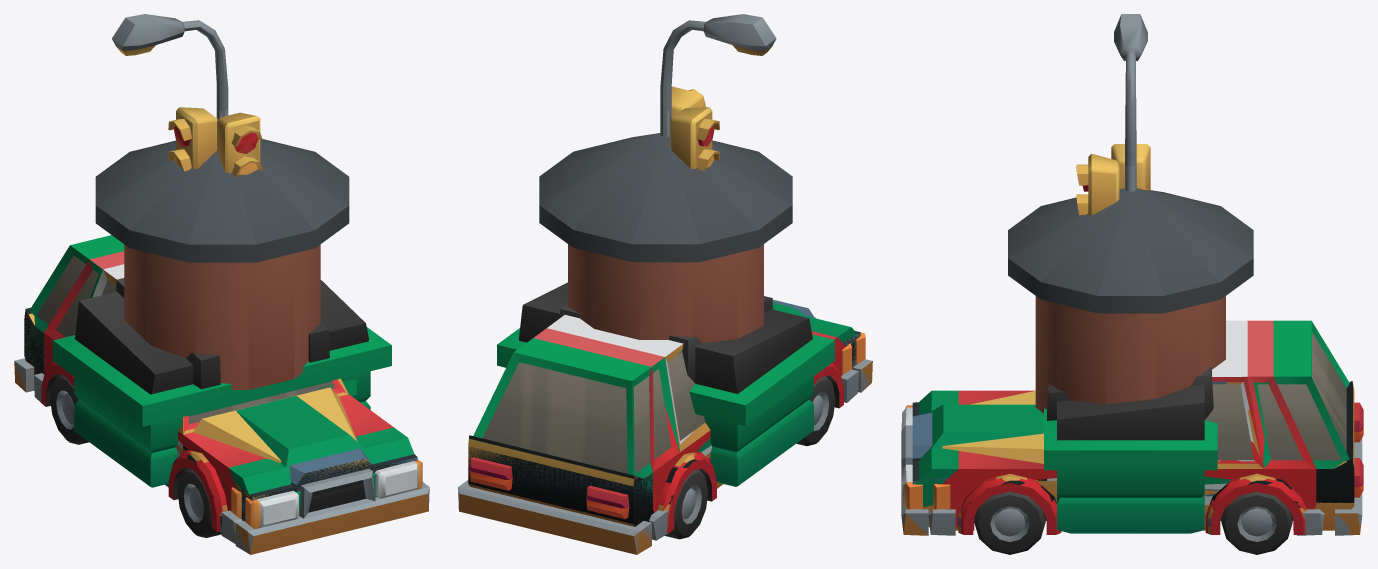
File: kk-city.glb
3 views of the same model, side by side, from view 1: azimuth 30°, elevation 25°; view 2: azimuth 150°, elevation 25°; view 3: azimuth 270°, elevation 25° (orthographic). The views are drawn at different scales.
Visible parts, largest first — view 1: watertower, dumpster, Cube.13728, Cube.1023, Cube.13730, Cube.1022, Cube.13729, trafficlight_A, streetlight, car_hatchback_wheel_front_right, car_hatchback_wheel_rear_right; view 2: watertower, dumpster, Cube.13728, Cube.1022, Cube.1023, Cube.13730, Cube.13729, streetlight, trafficlight_A, car_hatchback_wheel_rear_right, car_hatchback_wheel_front_right; view 3: watertower, dumpster, Cube.13728, Cube.13730, Cube.1022, Cube.1023, trafficlight_A, car_hatchback_wheel_front_left, car_hatchback_wheel_rear_left, streetlight, Cube.13729.
Part boxes in pixels (x1=…): watertower: x1=95, y1=139, x2=349, y2=389; dumpster: x1=53, y1=278, x2=391, y2=487; Cube.13728: x1=24, y1=235, x2=414, y2=515; Cube.1023: x1=14, y1=269, x2=429, y2=554; Cube.13730: x1=34, y1=251, x2=393, y2=543; Cube.1022: x1=14, y1=264, x2=429, y2=553; Cube.13729: x1=14, y1=311, x2=429, y2=554; trafficlight_A: x1=168, y1=107, x2=262, y2=177; streetlight: x1=112, y1=14, x2=228, y2=119; car_hatchback_wheel_front_right: x1=177, y1=468, x2=221, y2=537; car_hatchback_wheel_rear_right: x1=50, y1=374, x2=87, y2=444; watertower: x1=539, y1=133, x2=792, y2=343; dumpster: x1=497, y1=282, x2=834, y2=486; Cube.13728: x1=473, y1=302, x2=857, y2=503; Cube.1022: x1=458, y1=315, x2=870, y2=547; Cube.1023: x1=458, y1=333, x2=872, y2=554; Cube.13730: x1=534, y1=328, x2=858, y2=540; Cube.13729: x1=458, y1=299, x2=872, y2=553; streetlight: x1=660, y1=14, x2=776, y2=136; trafficlight_A: x1=660, y1=86, x2=719, y2=171; car_hatchback_wheel_rear_right: x1=667, y1=469, x2=708, y2=539; car_hatchback_wheel_front_right: x1=796, y1=376, x2=835, y2=446; watertower: x1=1008, y1=188, x2=1253, y2=413; dumpster: x1=1044, y1=366, x2=1217, y2=533; Cube.13728: x1=912, y1=320, x2=1349, y2=527; Cube.13730: x1=928, y1=320, x2=1324, y2=535; Cube.1022: x1=901, y1=320, x2=1362, y2=509; Cube.1023: x1=901, y1=382, x2=1363, y2=535; trafficlight_A: x1=1076, y1=144, x2=1150, y2=215; car_hatchback_wheel_front_left: x1=974, y1=491, x2=1045, y2=554; car_hatchback_wheel_rear_left: x1=1221, y1=491, x2=1292, y2=554; streetlight: x1=1114, y1=14, x2=1147, y2=189; Cube.13729: x1=901, y1=381, x2=1363, y2=535.
Size of the model in its own units: 0.5659 by 1.02 by 0.9381.
Materials: 1 (1 with a texture image).
